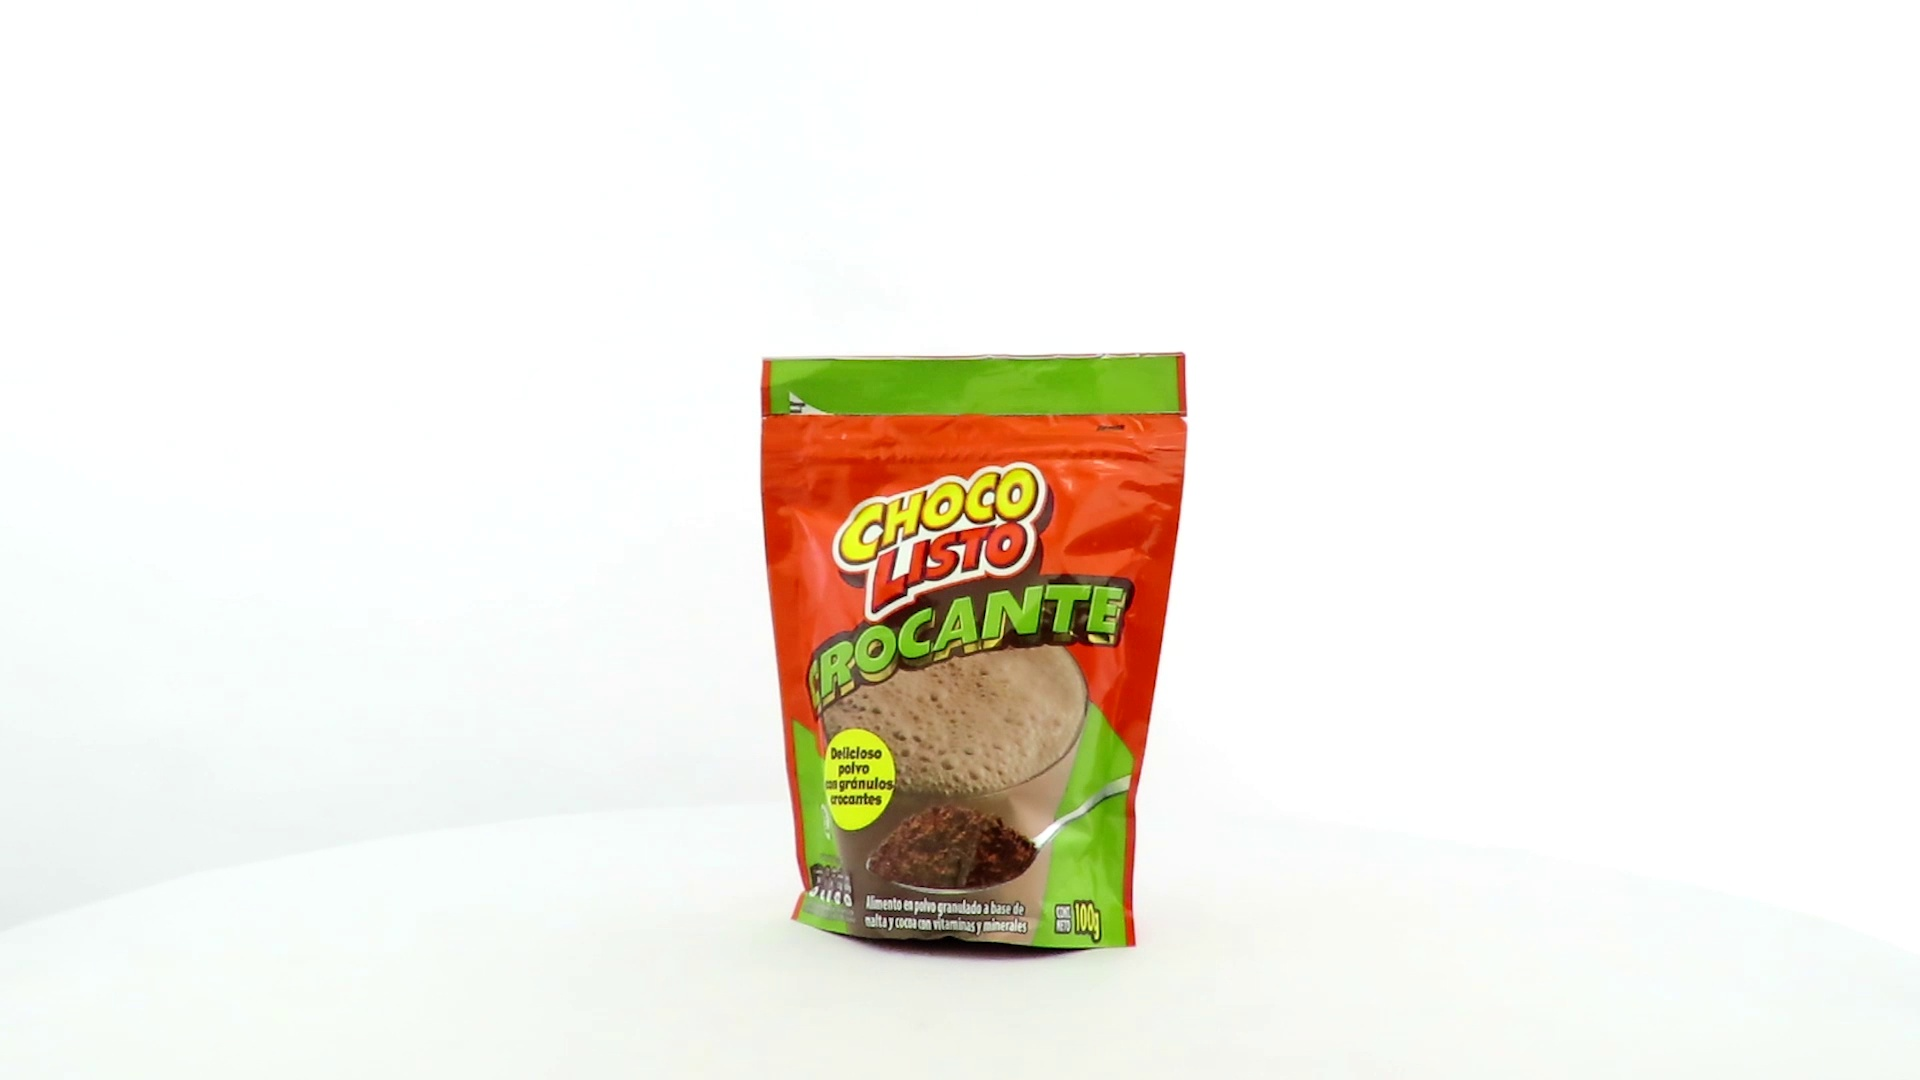COL0170102DYP10000: (756, 347, 1193, 967)
